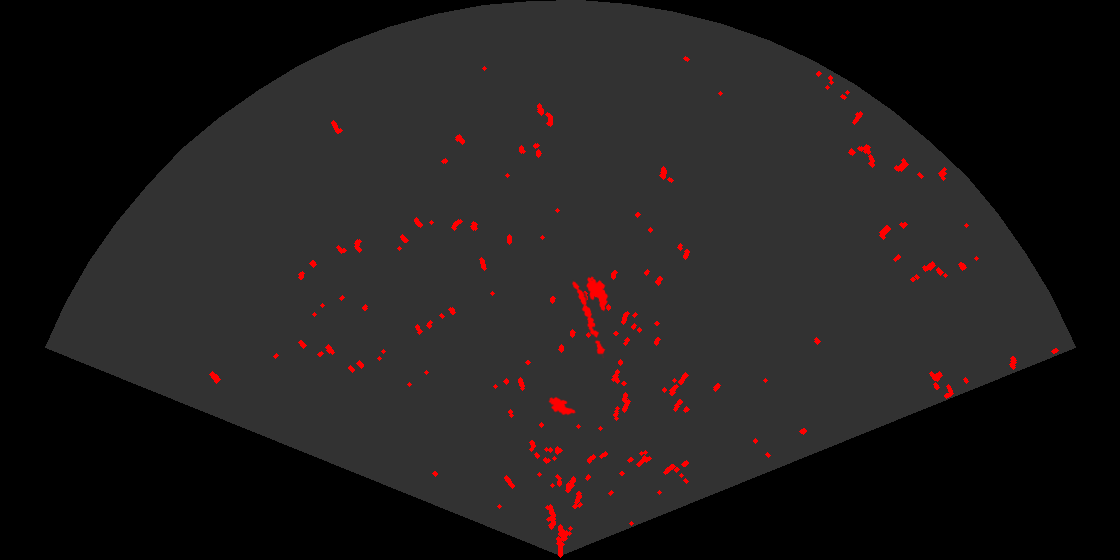AUV: (585, 275, 610, 313), (547, 395, 578, 418)
chain: (571, 279, 607, 358)
